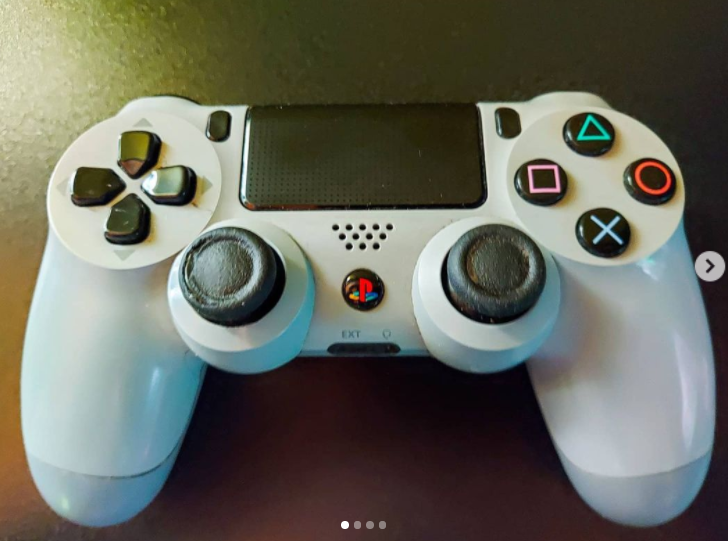gamingconsole: (24, 91, 713, 527)
